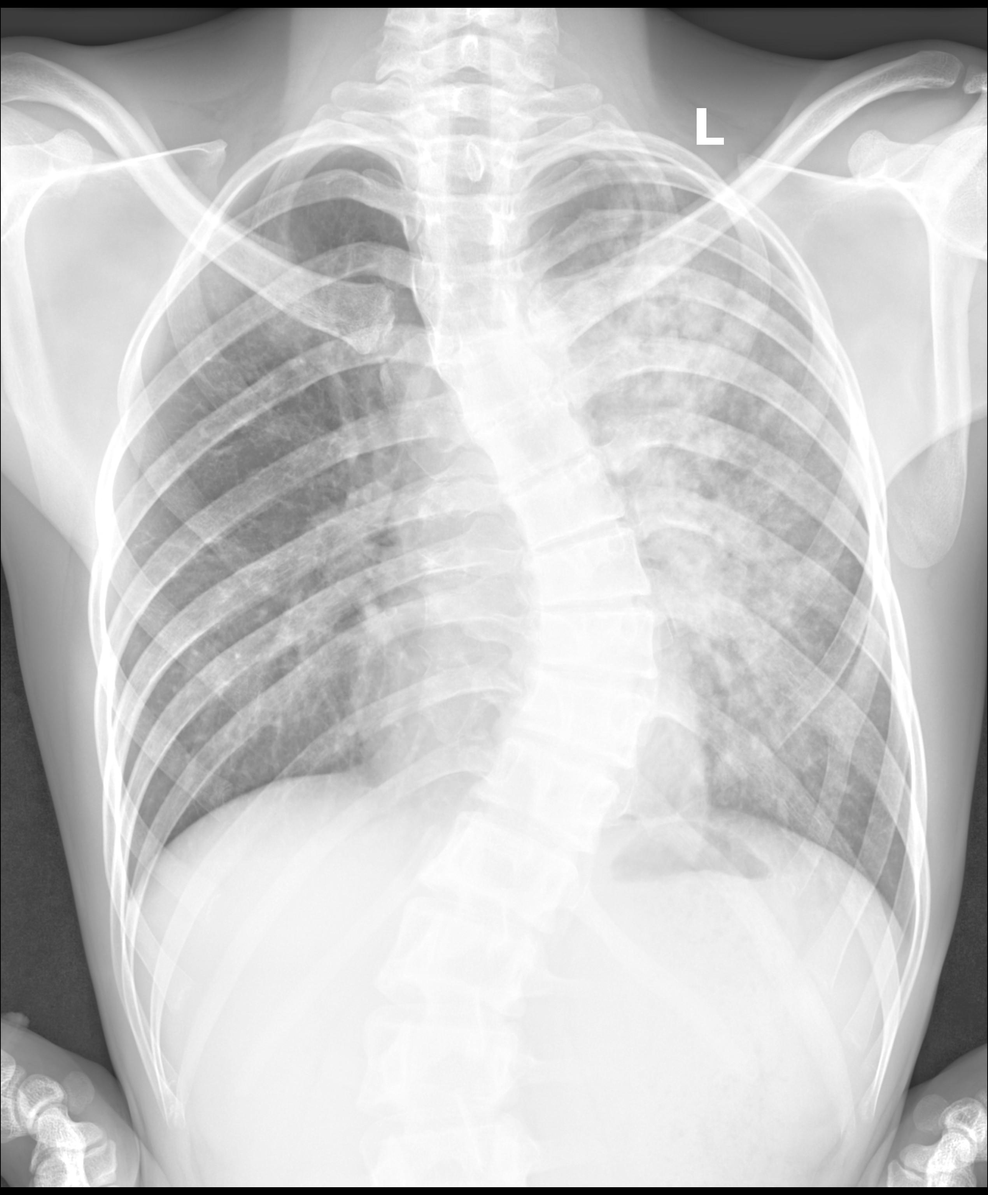Pleural thickening: (611, 143, 706, 204)
